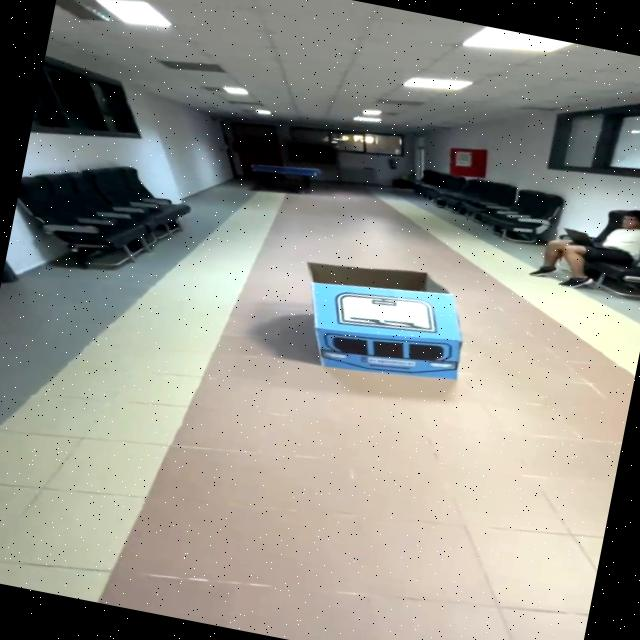blue_car: (260, 234, 502, 403)
